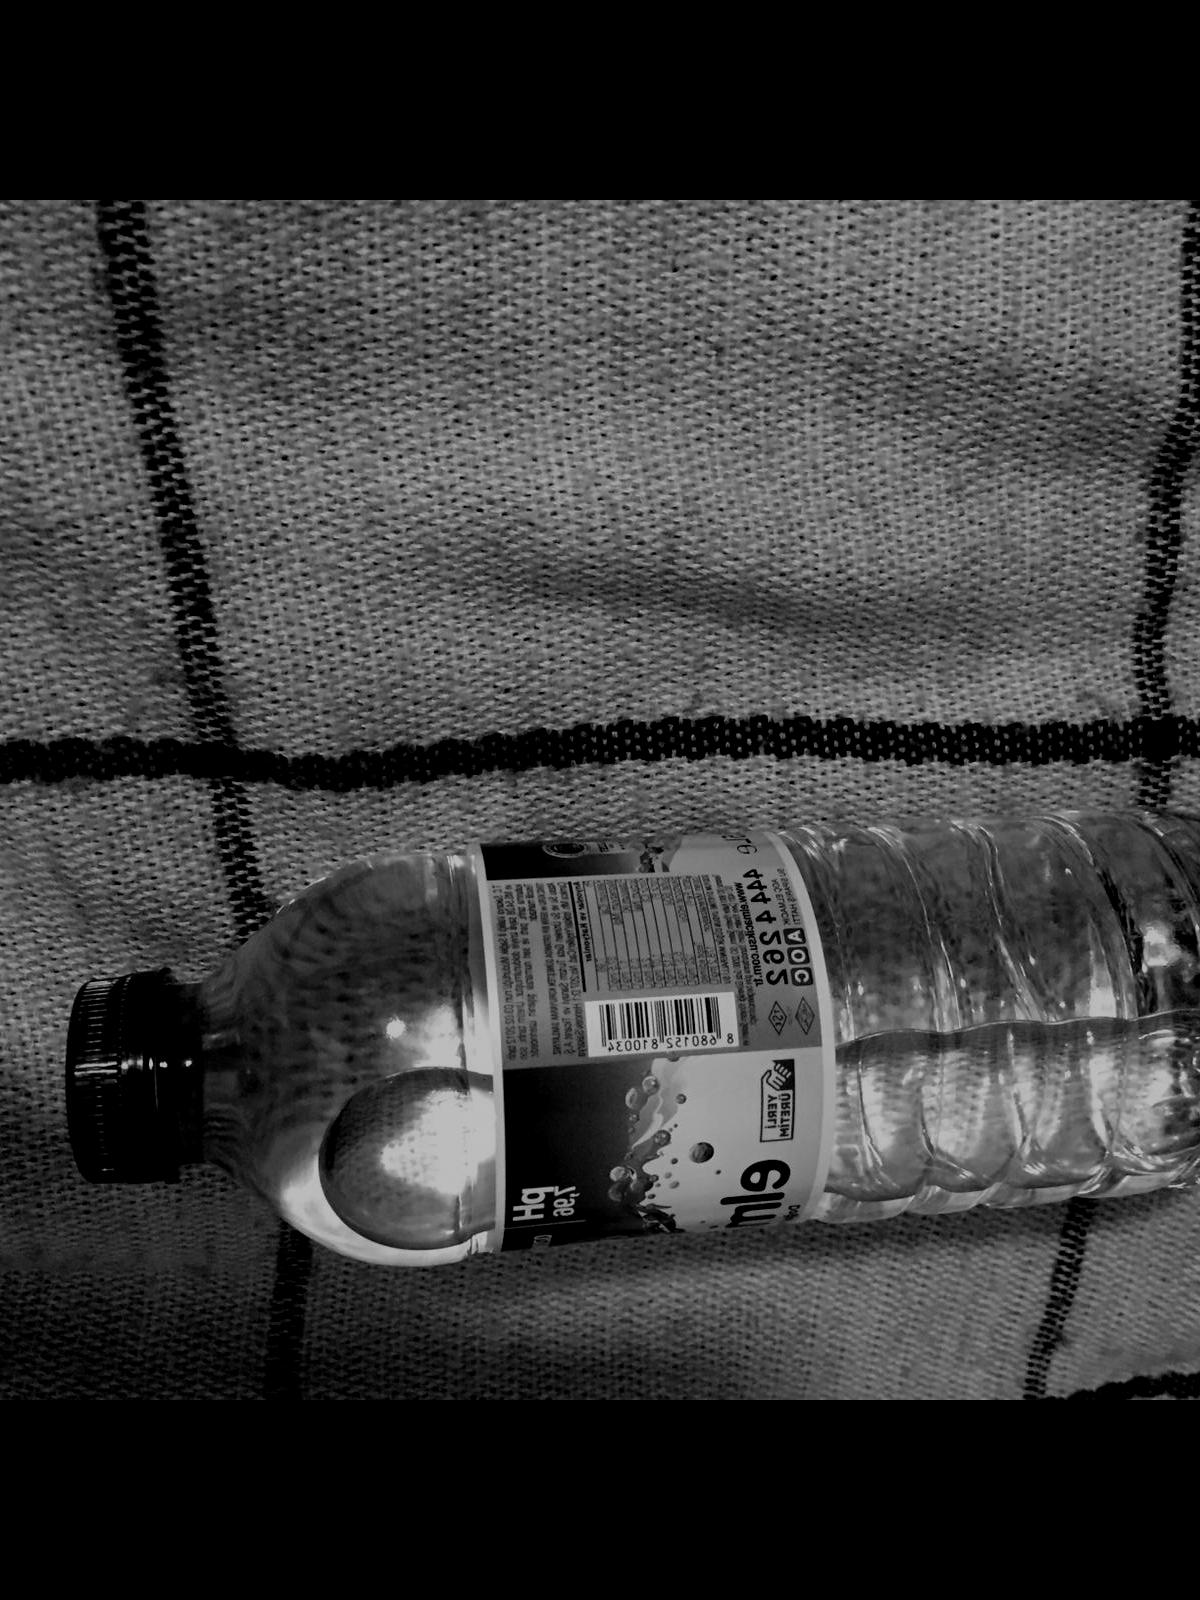bottle: (63, 809, 1200, 1262)
